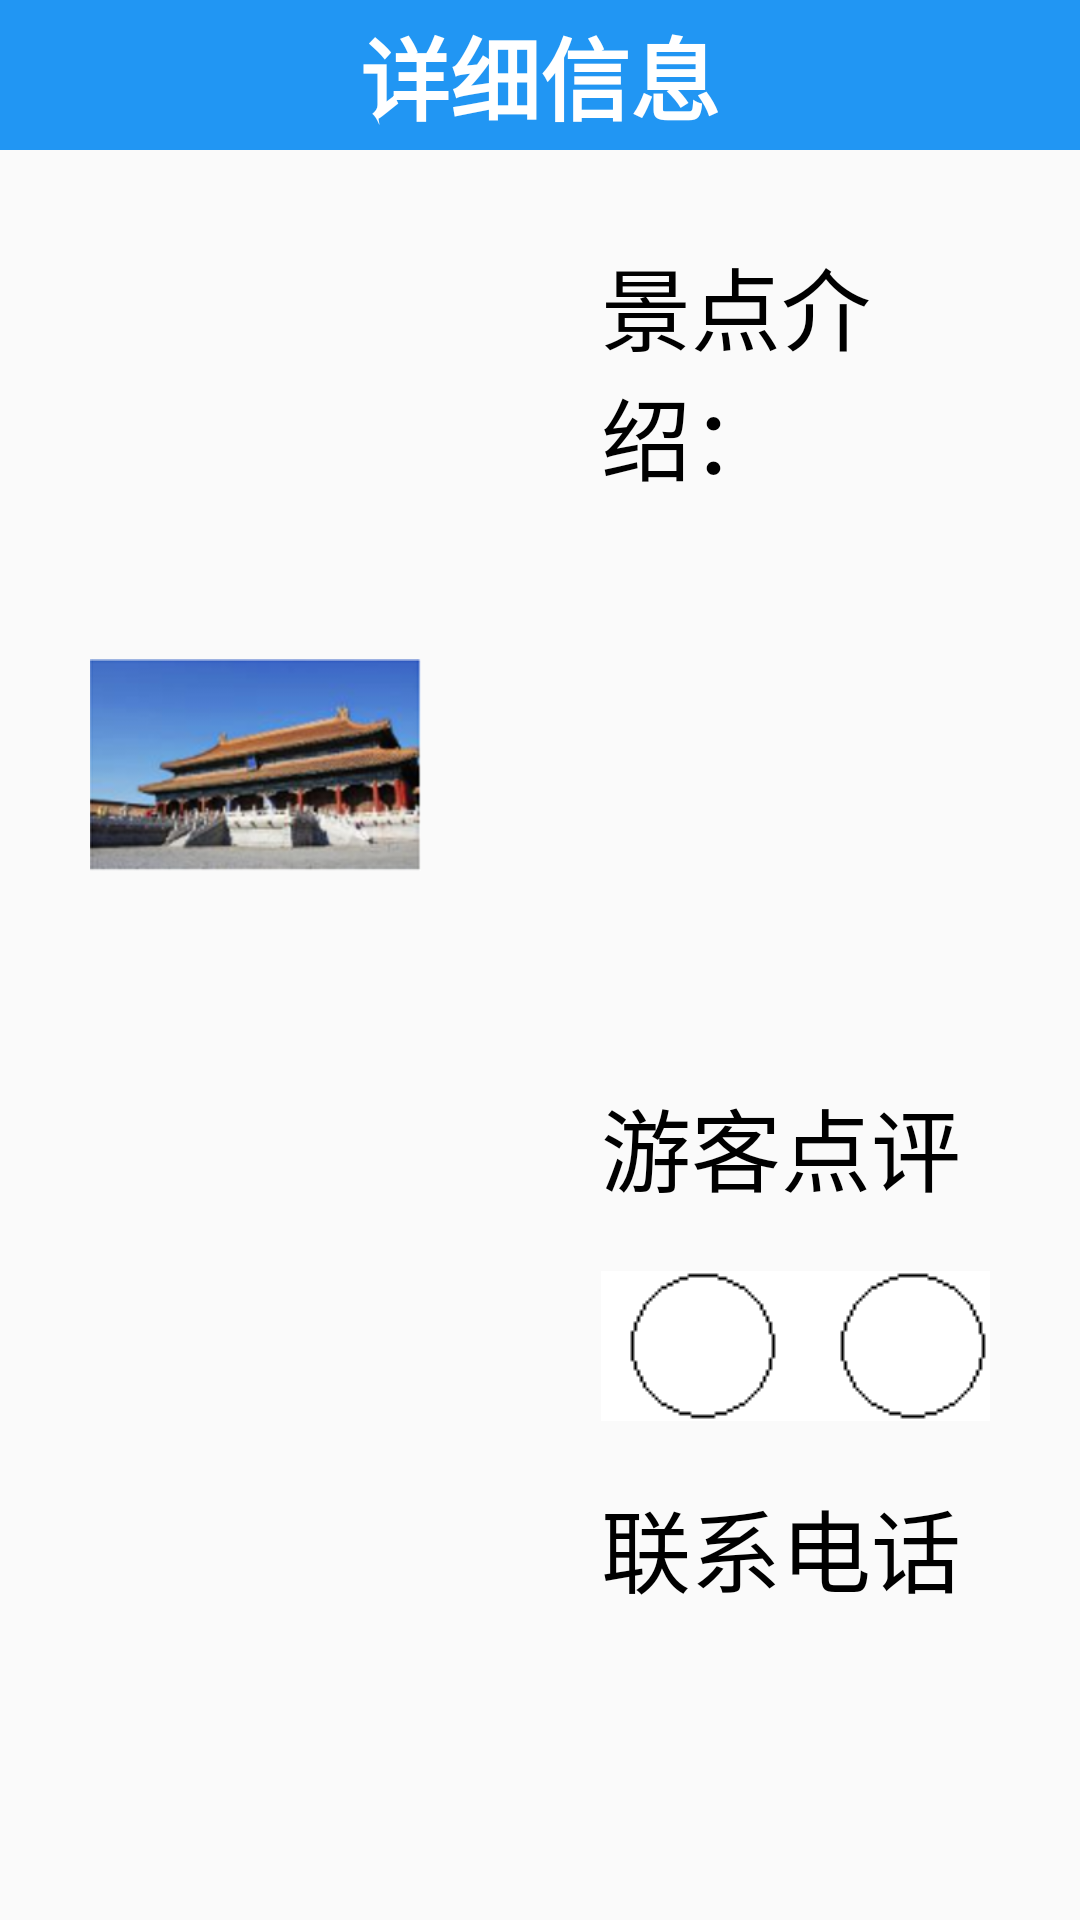

Icons on this 1080 x 1920 Android screen, each with its box as (x1, y1, x2, y2):
gugong: (90, 659, 421, 870)
